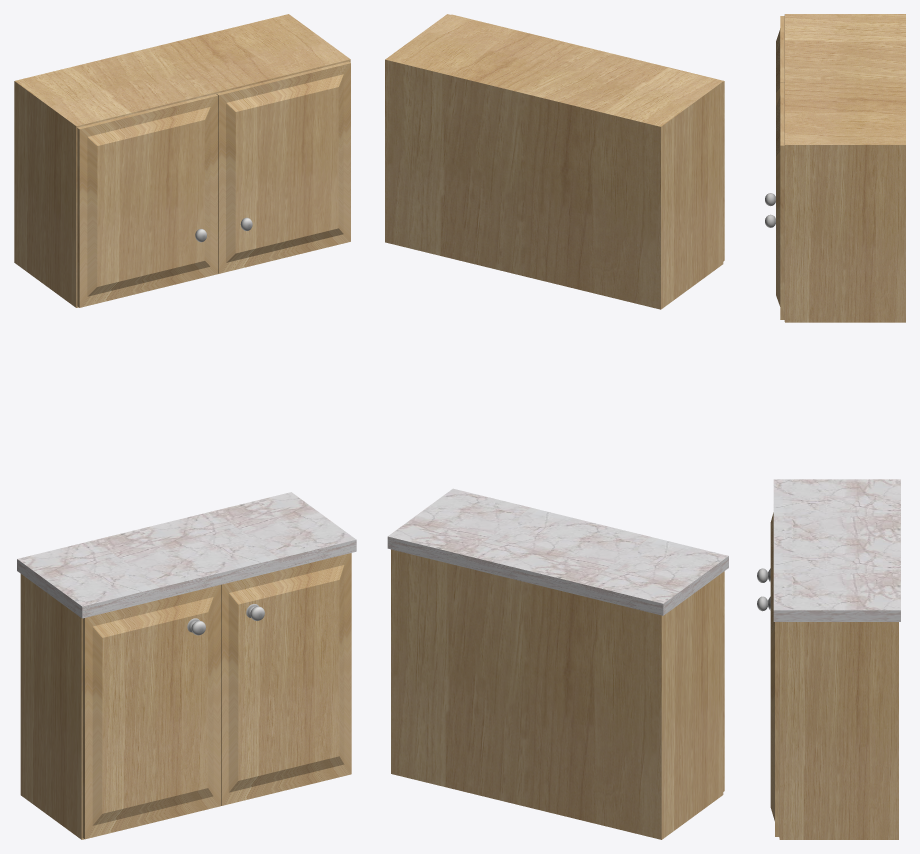
File: kitchenCabinet.FBX
3 views of the same model, side by side, from view 1: azimuth 30°, elevation 25°; view 2: azimuth 150°, elevation 25°; view 3: azimuth 270°, elevation 25° (orthographic). The views are drawn at different scales.
Visible parts, largest first — view 1: Body, Top, Handles; view 2: Body, Top; view 3: Body, Top, Handles.
Part boxes in pixels (left/top/right/bottom): Body: left=14, top=14, right=351, bottom=839; Top: left=17, top=492, right=356, bottom=618; Handles: left=187, top=217, right=264, bottom=635; Body: left=385, top=14, right=724, bottom=839; Top: left=387, top=488, right=728, bottom=615; Body: left=770, top=14, right=905, bottom=839; Top: left=773, top=479, right=900, bottom=621; Handles: left=757, top=193, right=775, bottom=611.
Size of the model in its own units: 1035 by 2567 by 498.
Materials: 3 (3 with a texture image).
